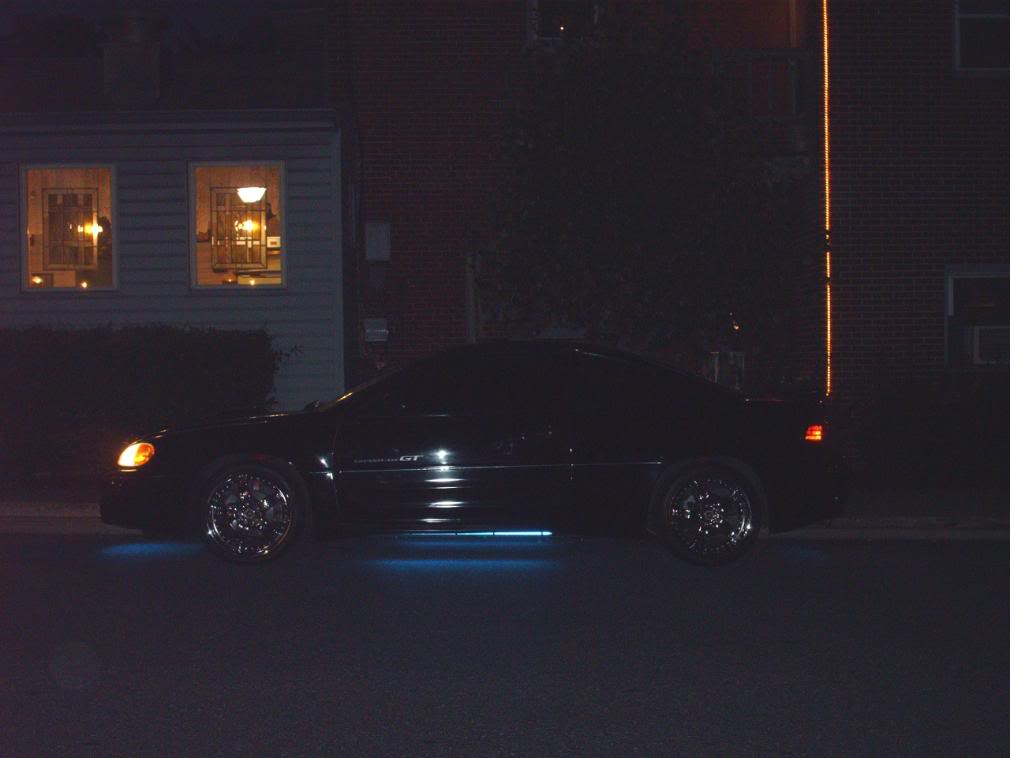car: (95, 313, 859, 575)
